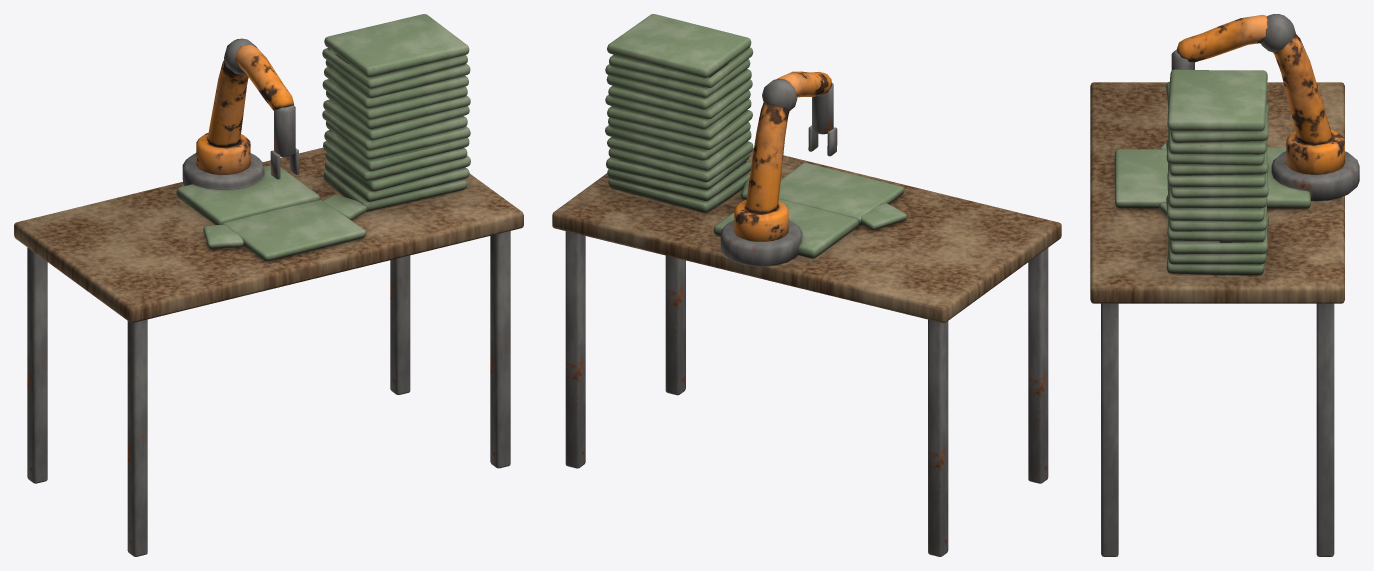
File: shirt_folder.fbx
The picture shows the model from 3 angles, left to right: view 1: azimuth 30°, elevation 25°; view 2: azimuth 150°, elevation 25°; view 3: azimuth 270°, elevation 25°; orthographic projection. The views are drawn at different scales.
Parts seen in each view (by area): view 1: Body, Arm, Shirt; view 2: Body, Arm, Shirt; view 3: Body, Arm, Shirt.
Boxes of the visible parts, bbox=[...] form: Body: bbox=[14, 14, 523, 556]; Arm: bbox=[196, 38, 298, 179]; Shirt: bbox=[203, 194, 367, 261]; Body: bbox=[552, 14, 1061, 556]; Arm: bbox=[734, 71, 837, 241]; Shirt: bbox=[741, 162, 907, 230]; Body: bbox=[1090, 69, 1359, 556]; Arm: bbox=[1171, 14, 1344, 174]; Shirt: bbox=[1114, 142, 1167, 215].
Size of the model in its own units: 5 by 5 by 2.75.
Materials: 1 (1 with a texture image).
